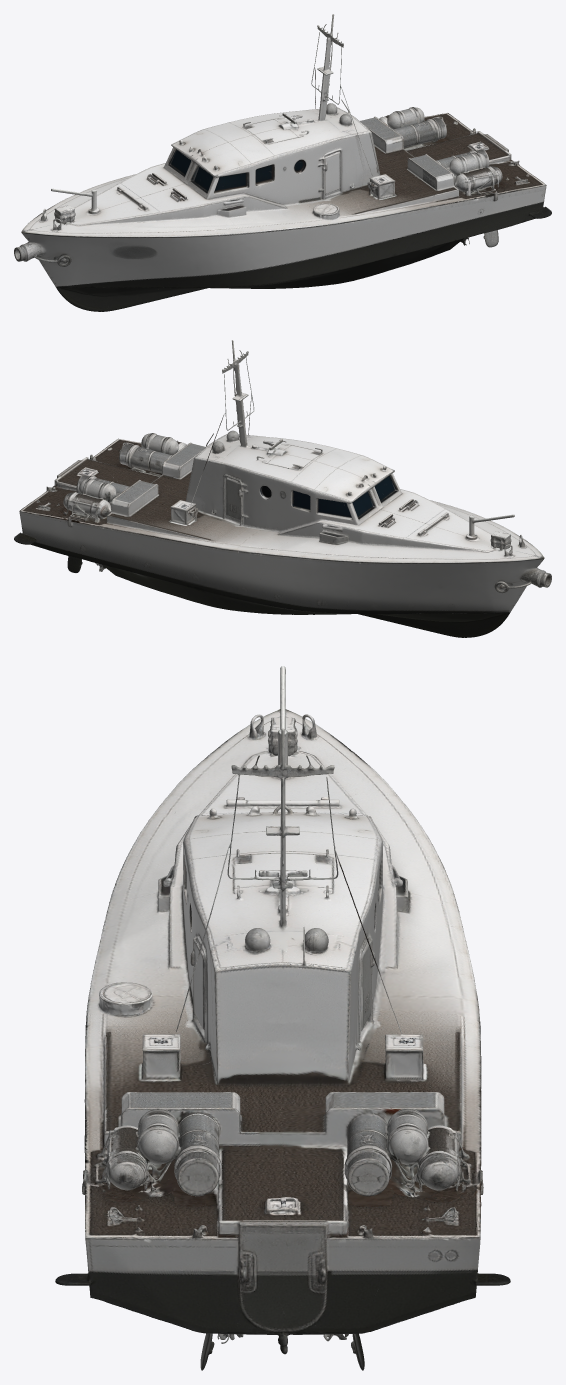
The model's file is pawn_white.glb.
3 views of the same model, one above another, from view 1: azimuth 30°, elevation 25°; view 2: azimuth 150°, elevation 25°; view 3: azimuth 270°, elevation 25° (orthographic). The views are drawn at different scales.
Parts seen in each view (by area): view 1: mesh_node; view 2: mesh_node; view 3: mesh_node.
Boxes of the visible parts, x1,y1,x2,y2 form: mesh_node: (14,14,551,311); mesh_node: (14,340,551,637); mesh_node: (55,666,510,1370).
Size of the model in its own units: 1.9 by 0.9363 by 0.7665.
Materials: 1 (1 with a texture image).
